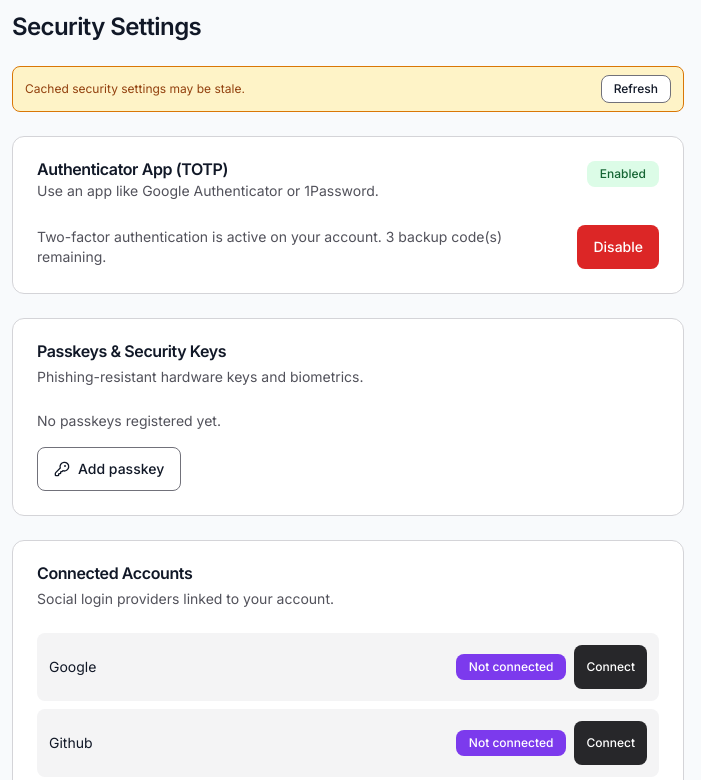
SecurityPage › disables TOTP after confirmation
Check: the text "Enabled" is shown, box [587,161,659,187]
Step 1. Click the button "Disable" → (618, 247), box [578,225,659,269]
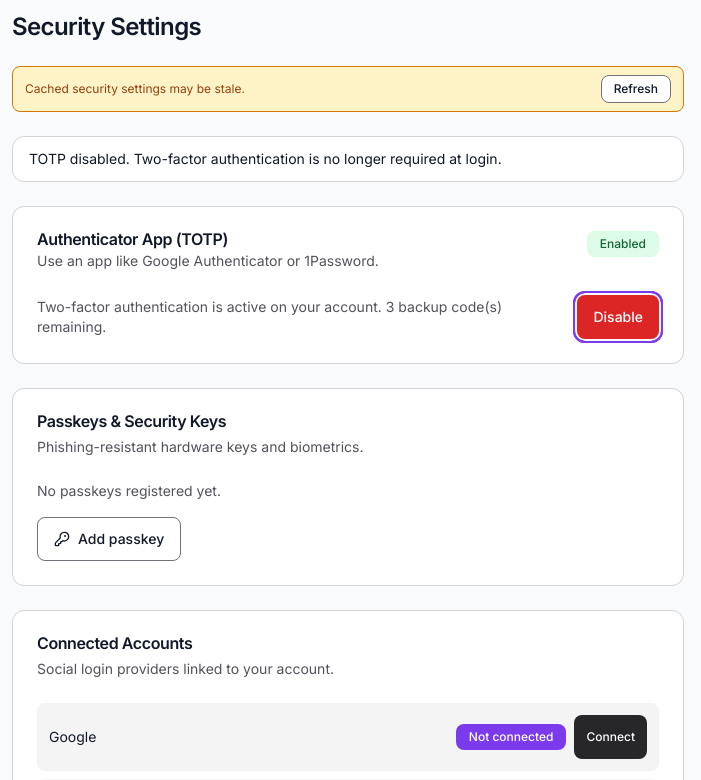
Check: the text "TOTP disabled. Two-factor authentication is no longer required at login." is shown, box [29,150,502,167]
